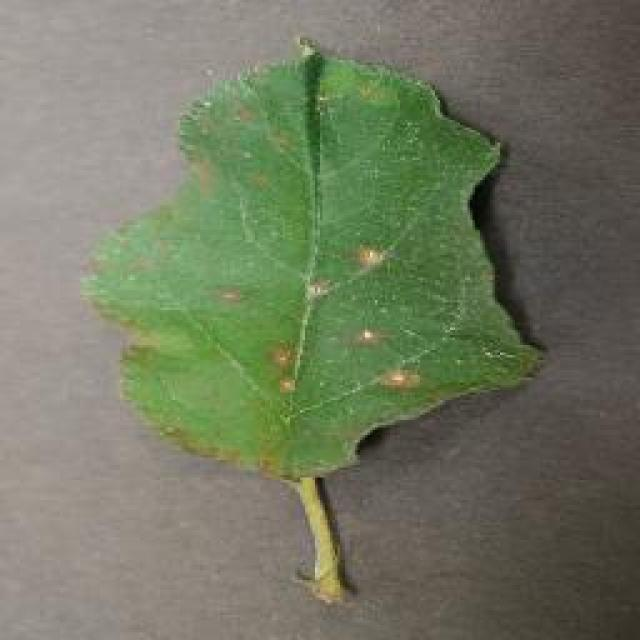apple cedar apple rust: (78, 32, 548, 602)
